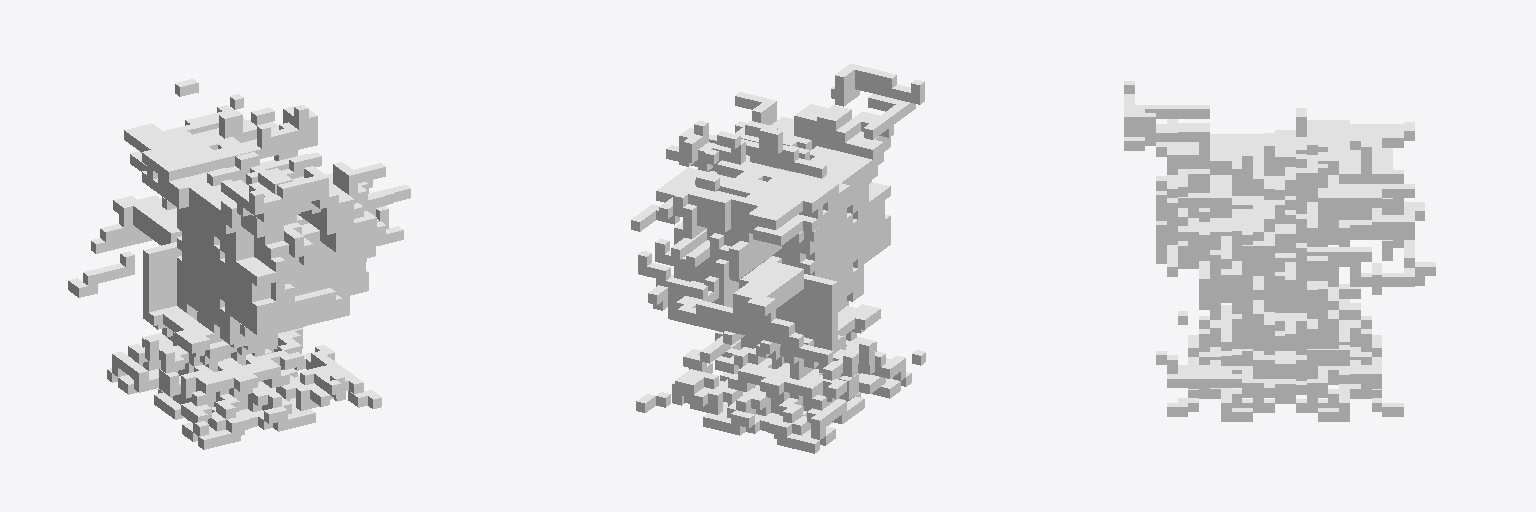
File: OAK_tree.vox.obj
3 views of the same model, side by side, from view 1: azimuth 30°, elevation 25°; view 2: azimuth 150°, elevation 25°; view 3: azimuth 270°, elevation 25° (orthographic).
Parts seen in each view (by area): view 1: object 1; view 2: object 1; view 3: object 1.
Boxes of the visible parts, x1=… form: object 1: x1=68, y1=79, x2=410, y2=449; object 1: x1=631, y1=64, x2=925, y2=453; object 1: x1=1124, y1=81, x2=1435, y2=421.
Bounding box in the file's own units: 2.7 × 2.8 × 2.9.